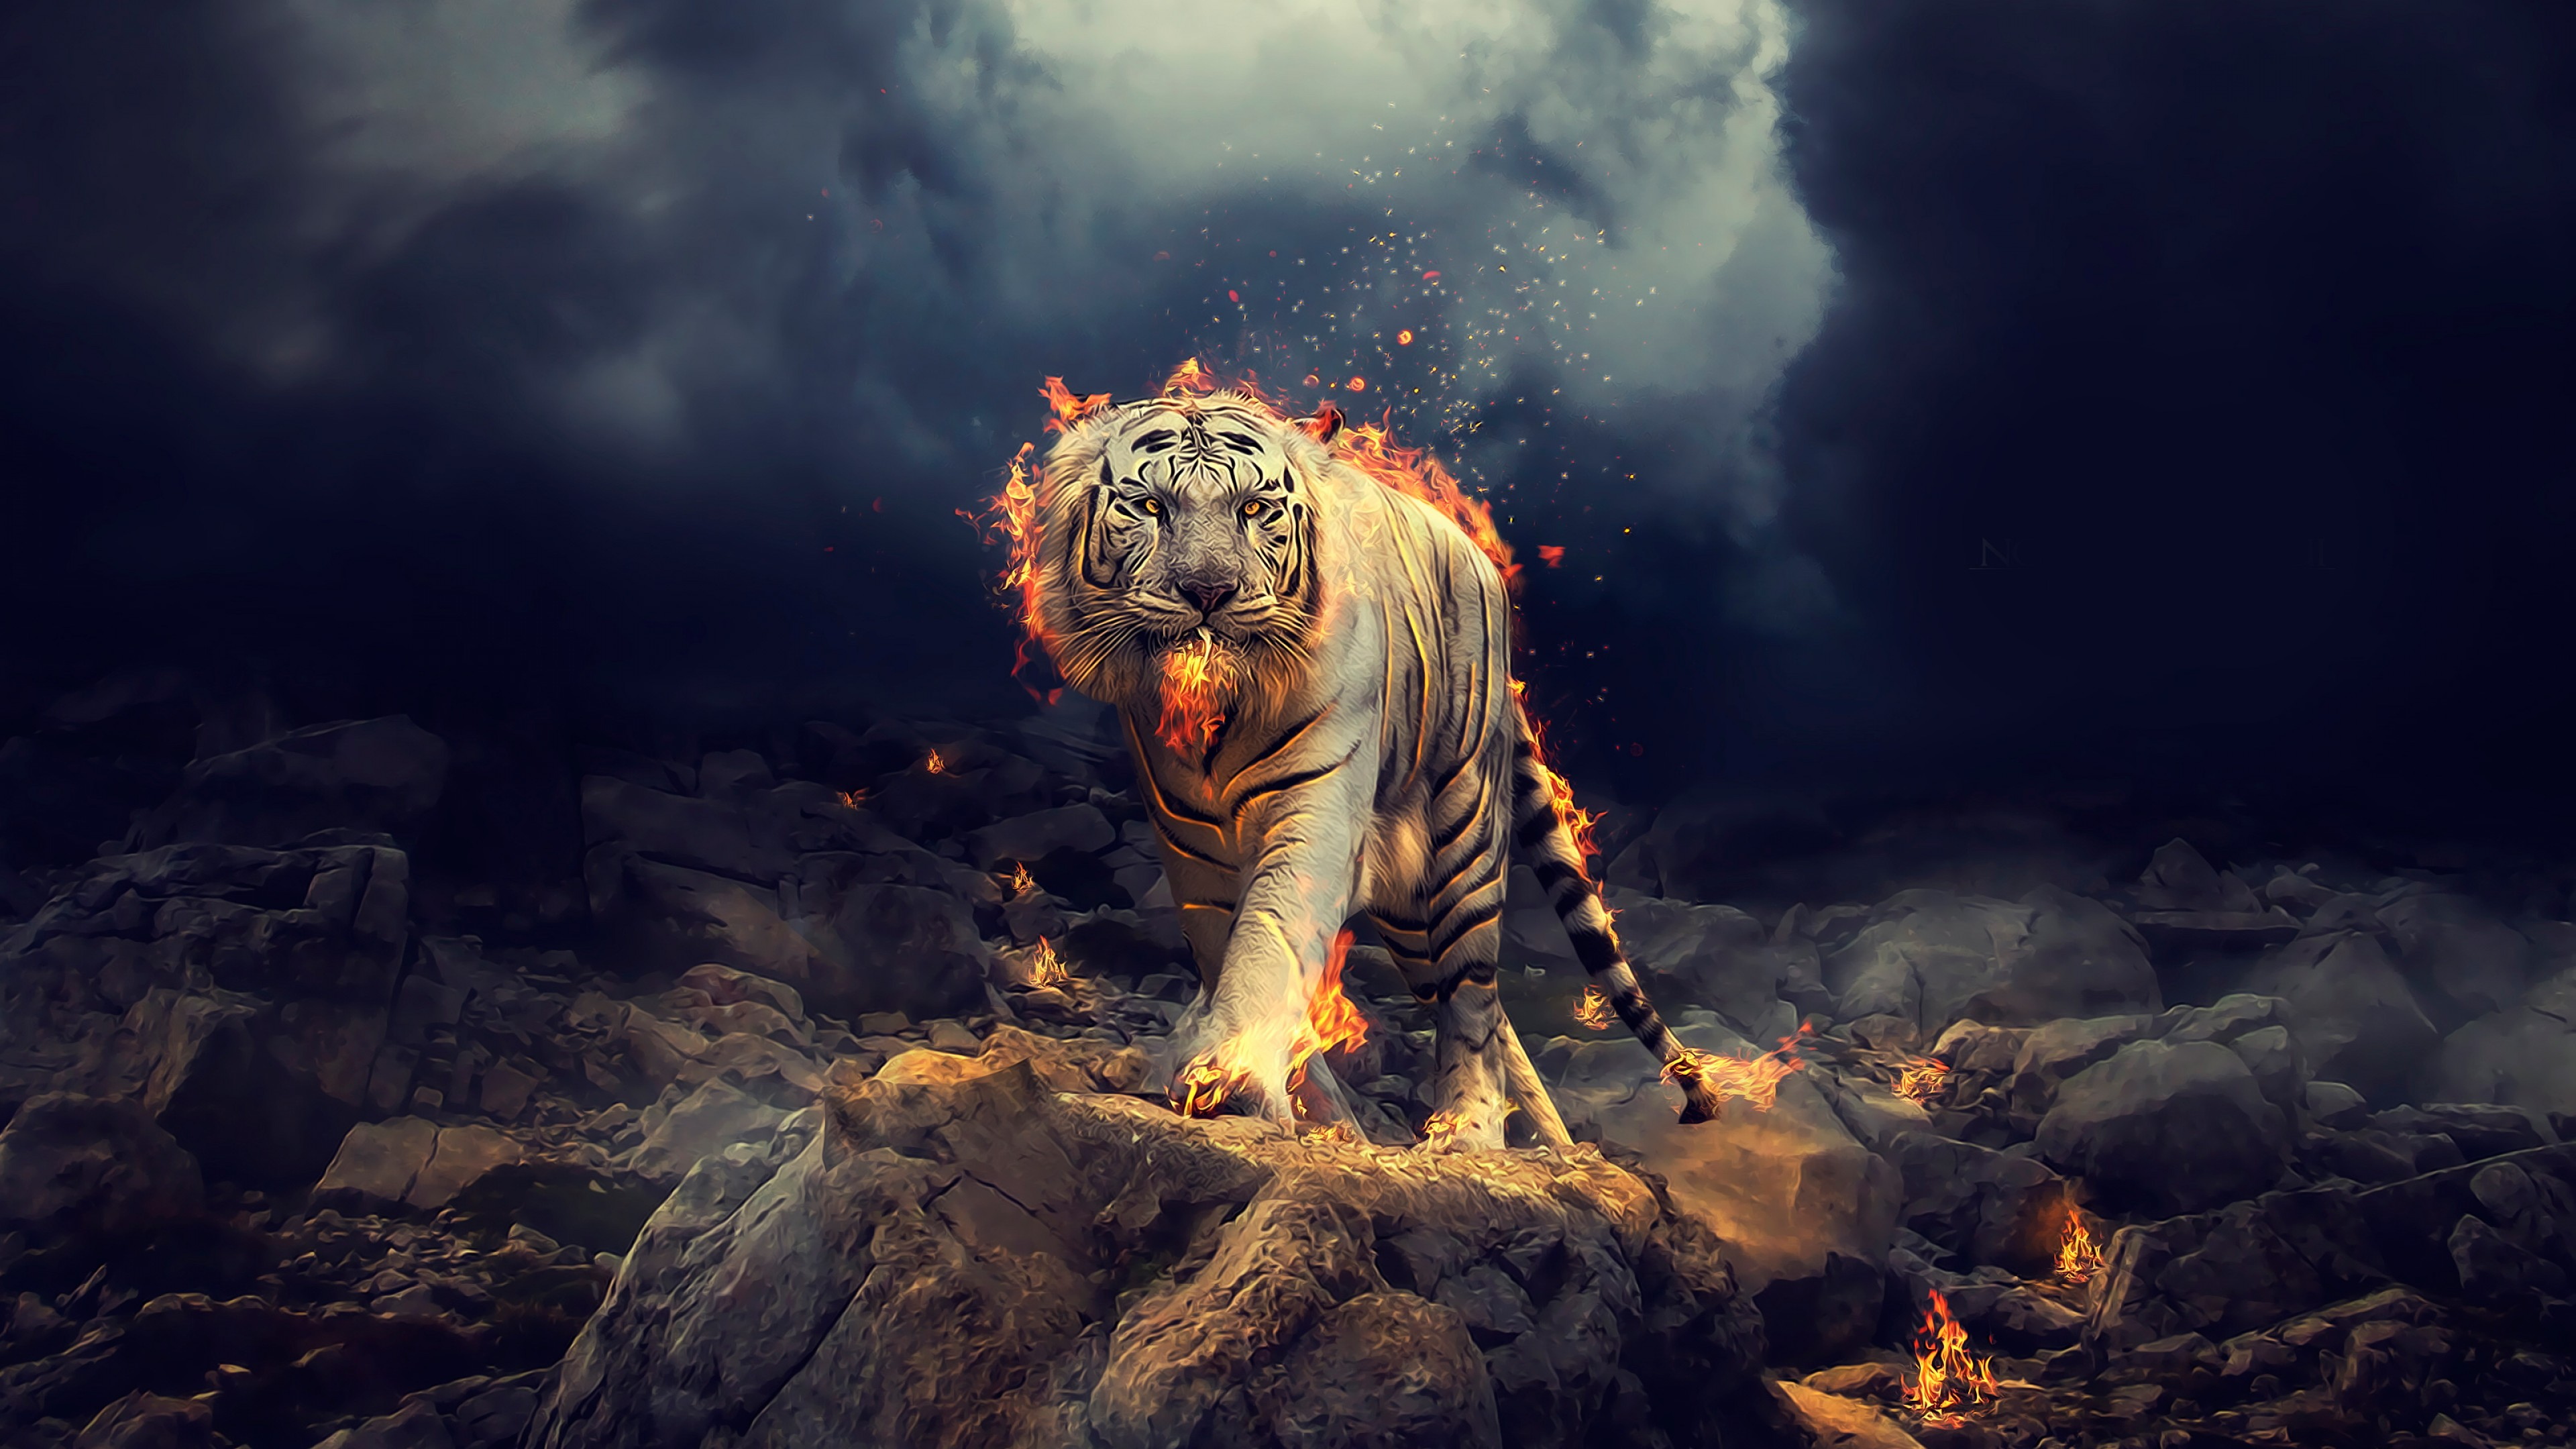Tigrew: (878, 280, 1725, 1182)
